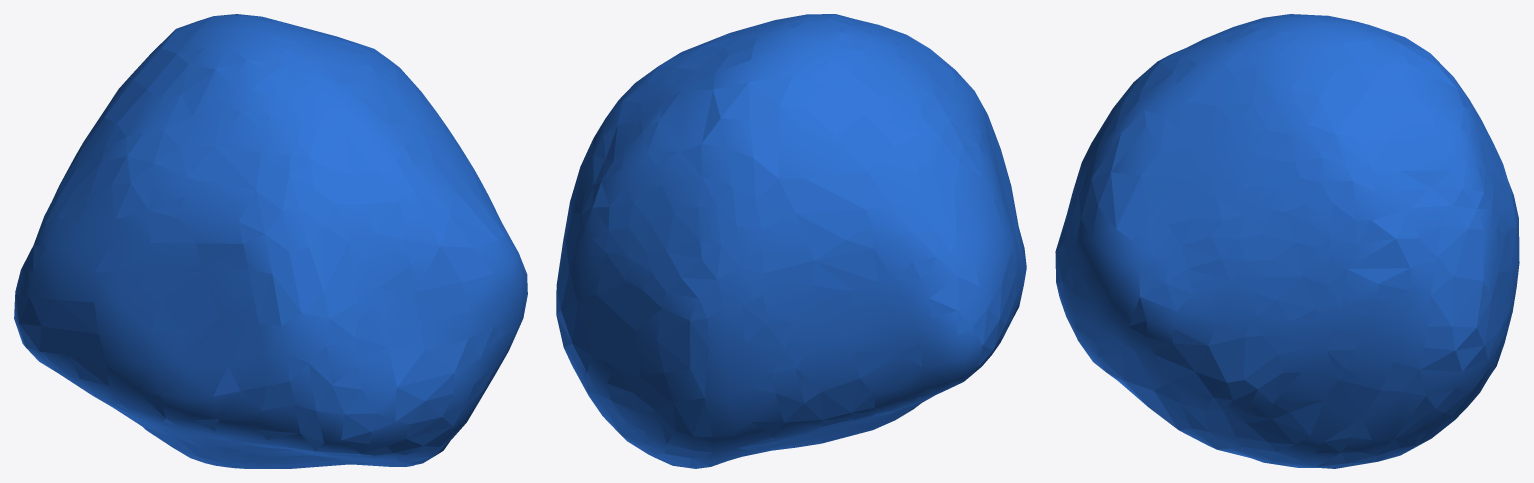
File: blue_rock.dae
3 views of the same model, side by side, from view 1: azimuth 30°, elevation 25°; view 2: azimuth 150°, elevation 25°; view 3: azimuth 270°, elevation 25° (orthographic). The views are drawn at different scales.
Visible parts, largest first — view 1: Rock_048_Cube_063; view 2: Rock_048_Cube_063; view 3: Rock_048_Cube_063.
Part boxes in pixels (box(x1,y1,x2,y2)): Rock_048_Cube_063: box(14, 14, 527, 468); Rock_048_Cube_063: box(556, 14, 1026, 468); Rock_048_Cube_063: box(1055, 14, 1519, 468).
Bounding box in the file's own units: 1.02 × 1.08 × 1.02.
